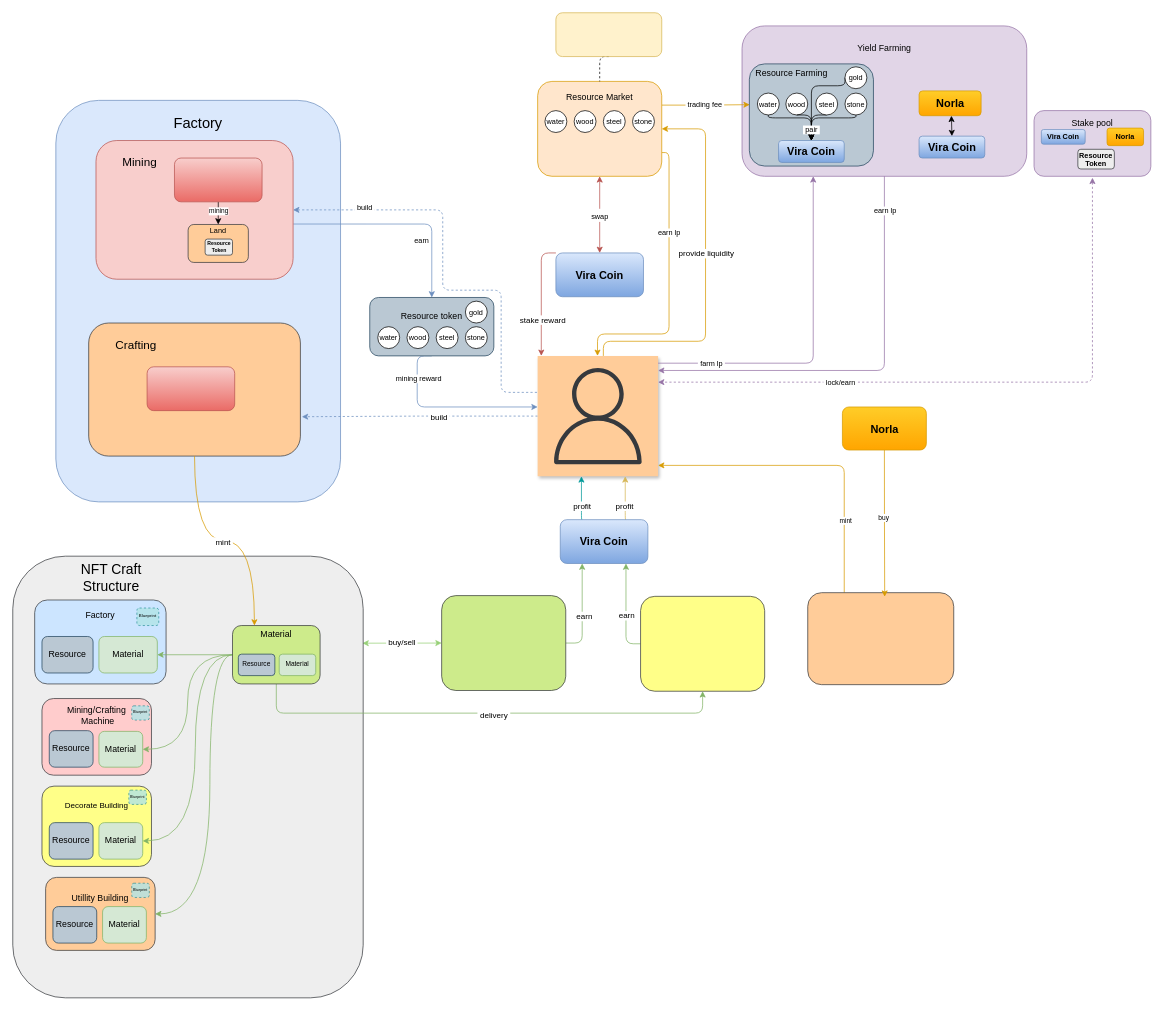
This 1164x1011 diagram has some shape labels left out. Here are the shapes that lost their labels. From the top down, the centre of each, then its label:
At (608,34): "0.5% trading fee - 0.25% provide liquidity - 0.25% platform".
At (218,179): "Mining Machine".
At (190,388): "Crafting Machine".
At (503,643): "Marketplace".
At (702,643): "Mission".
At (880,638): "Land Sell".
